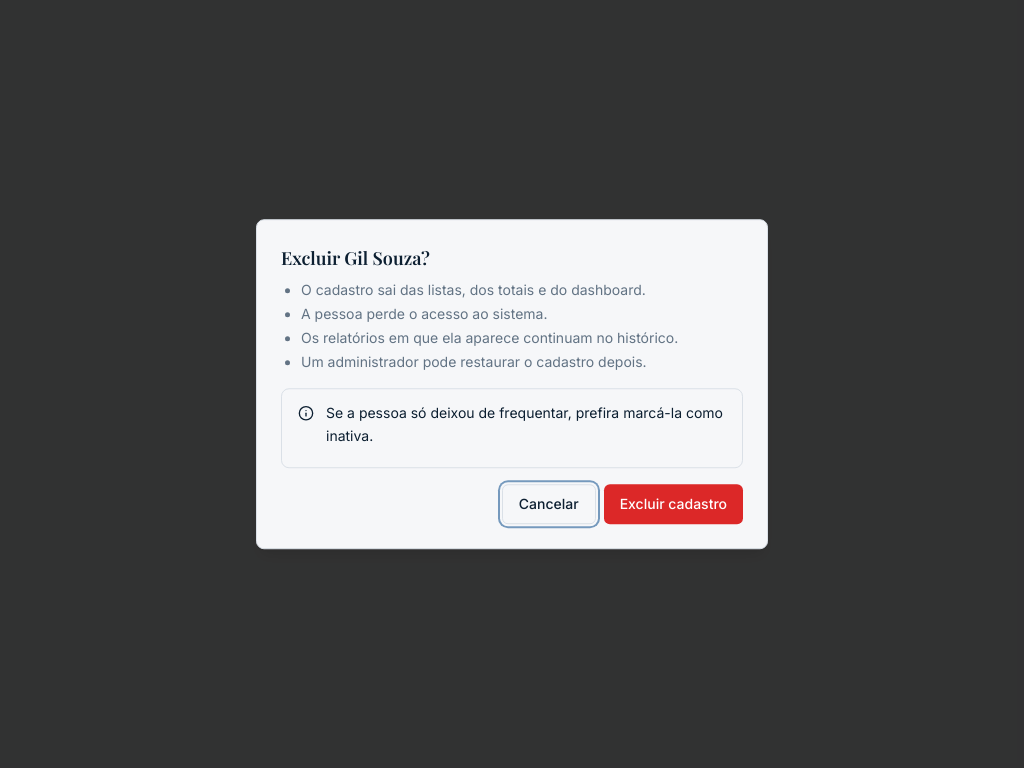
Test: MemberDeletionFlow: recusas do servidor (UX-11) › RN-03: 'Você não pode excluir o seu próprio cadastro.' no envio abre o bloqueio 'Não é possível excluir {Nome}', só com 'Fechar'
Later steps or results of the test are not shown.
Step 1. Click the button "Excluir cadastro" → (673,504), box [604, 484, 743, 524]
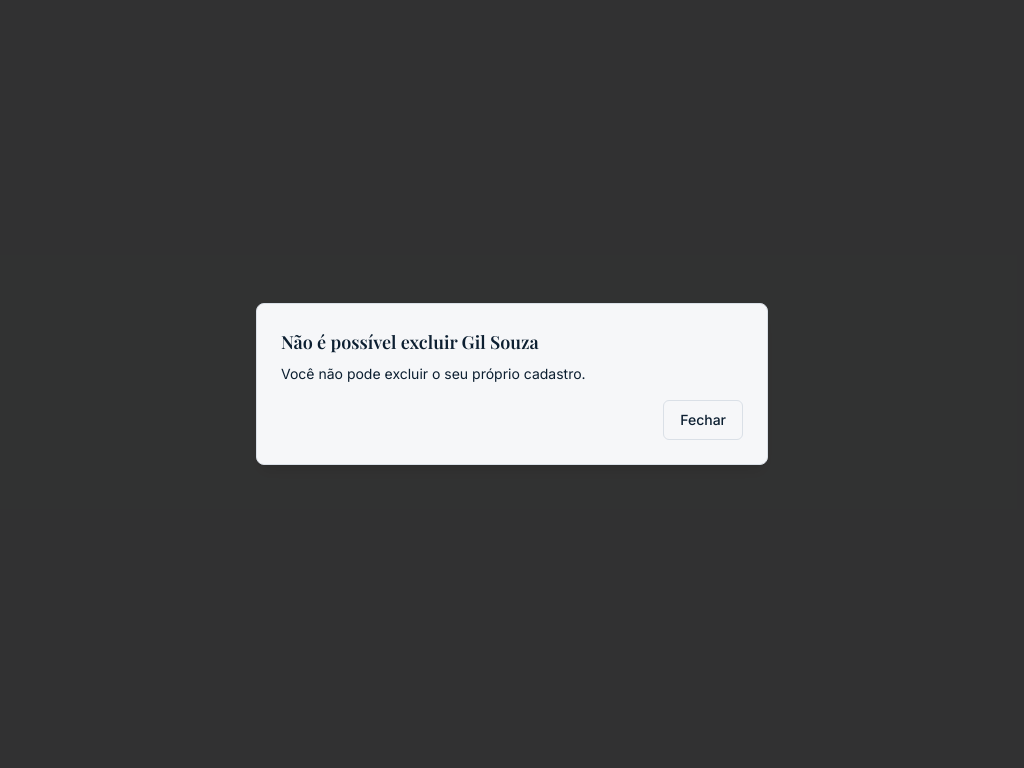
Now the dialog shows "Você não pode excluir o seu próprio cadastro.", box [281, 365, 586, 382]
Now the buttons read "Fechar", in this order, box [663, 400, 743, 440]
